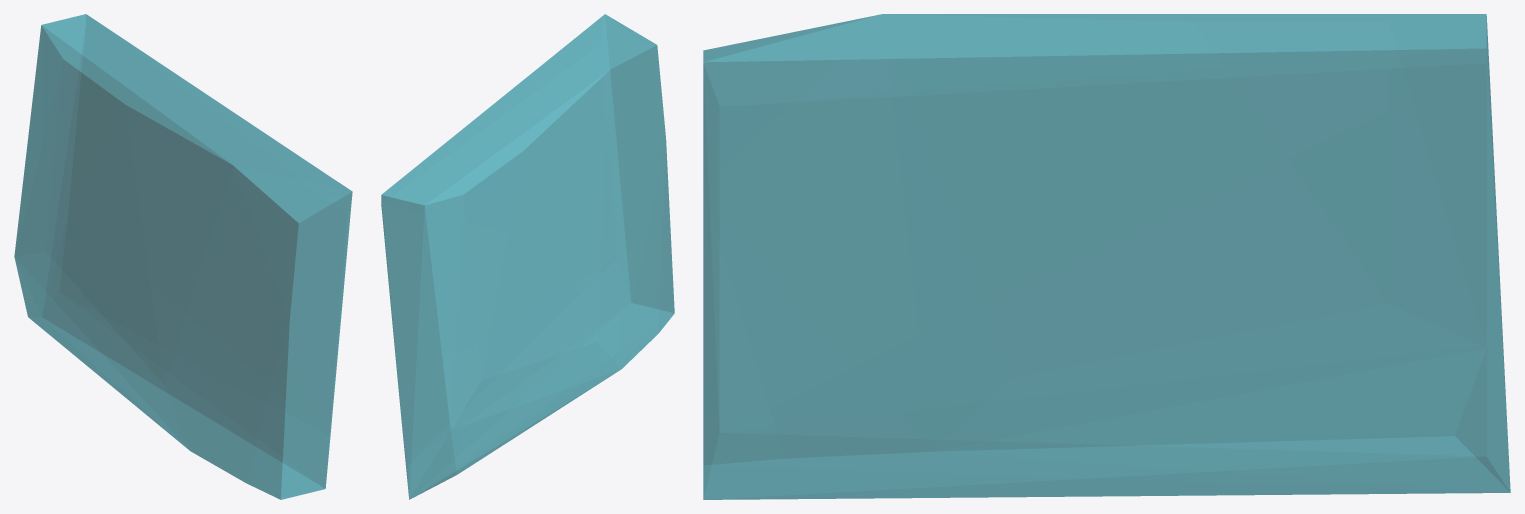
3 views of the same model, side by side, from view 1: azimuth 30°, elevation 25°; view 2: azimuth 150°, elevation 25°; view 3: azimuth 270°, elevation 25° (orthographic). The views are drawn at different scales.
Visible parts, largest first — view 1: Shape_IndexedFaceSet.031_Shape_IndexedFaceSet.15644; view 2: Shape_IndexedFaceSet.031_Shape_IndexedFaceSet.15644; view 3: Shape_IndexedFaceSet.031_Shape_IndexedFaceSet.15644.
Part boxes in pixels (x1=…): Shape_IndexedFaceSet.031_Shape_IndexedFaceSet.15644: x1=14, y1=14, x2=352, y2=499; Shape_IndexedFaceSet.031_Shape_IndexedFaceSet.15644: x1=381, y1=14, x2=674, y2=499; Shape_IndexedFaceSet.031_Shape_IndexedFaceSet.15644: x1=703, y1=14, x2=1510, y2=499.
Bounding box in the file's own units: 0.0904 × 0.2889 × 0.4475.
